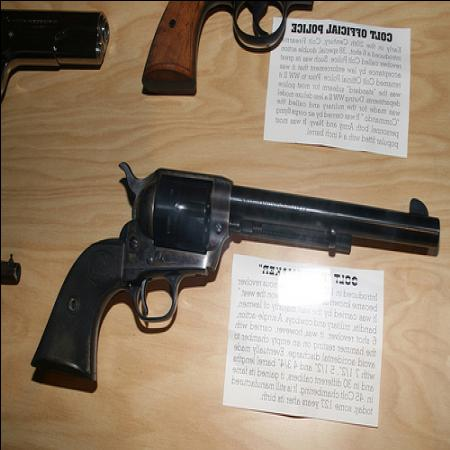Pistol: (33, 158, 440, 380), (1, 8, 114, 107)
